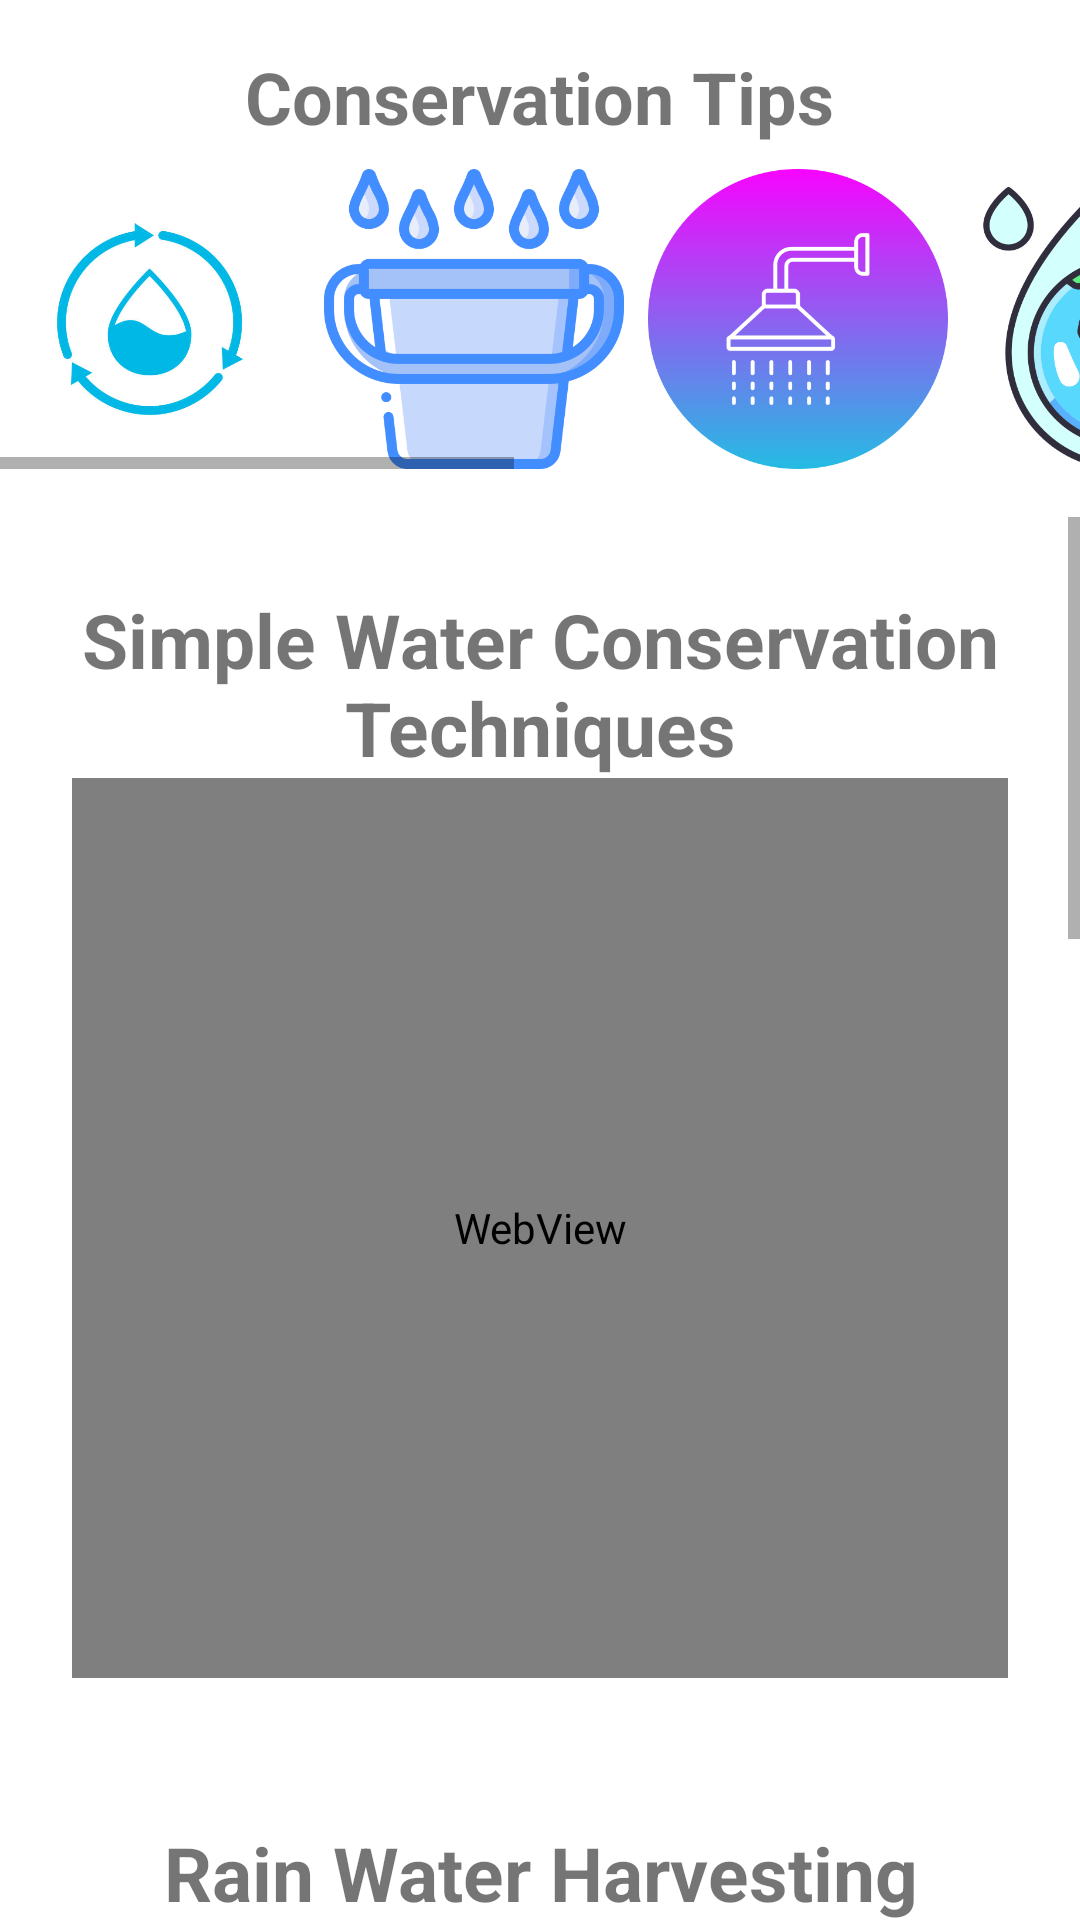

Icons on this 1080px×1920px Android screen, each with the point to tap as (x,y):
bucket: (474,319)
recycle: (150,319)
shower: (798,319)
